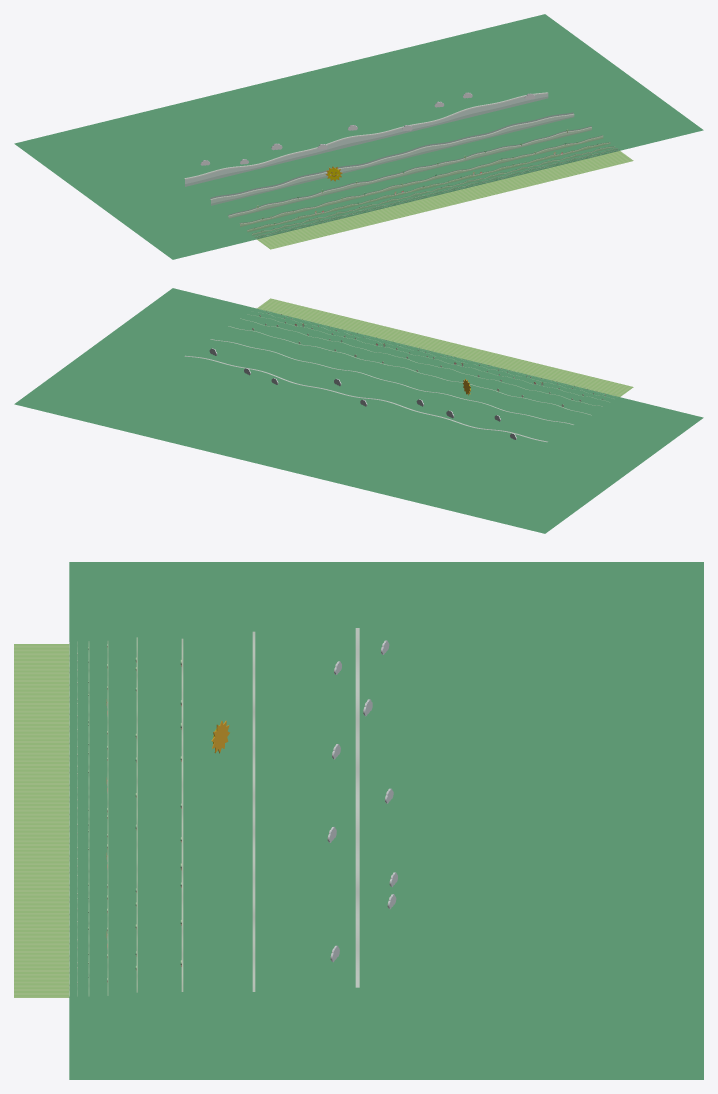
Rendered from paper-far.glb.
3 renders of one model, top to bottom at view 1: azimuth 30°, elevation 25°; view 2: azimuth 150°, elevation 25°; view 3: azimuth 270°, elevation 25°, orthographic. The views are drawn at different scales.
Parts seen in each view (by area): view 1: paper-far; view 2: paper-far; view 3: paper-far.
Boxes of the visible parts, <box> form: paper-far: <box>14,14,703,259</box>; paper-far: <box>14,288,703,533</box>; paper-far: <box>14,562,703,1079</box>.
Bounding box in the file's own units: 1900 × 61.58 × 1070.
